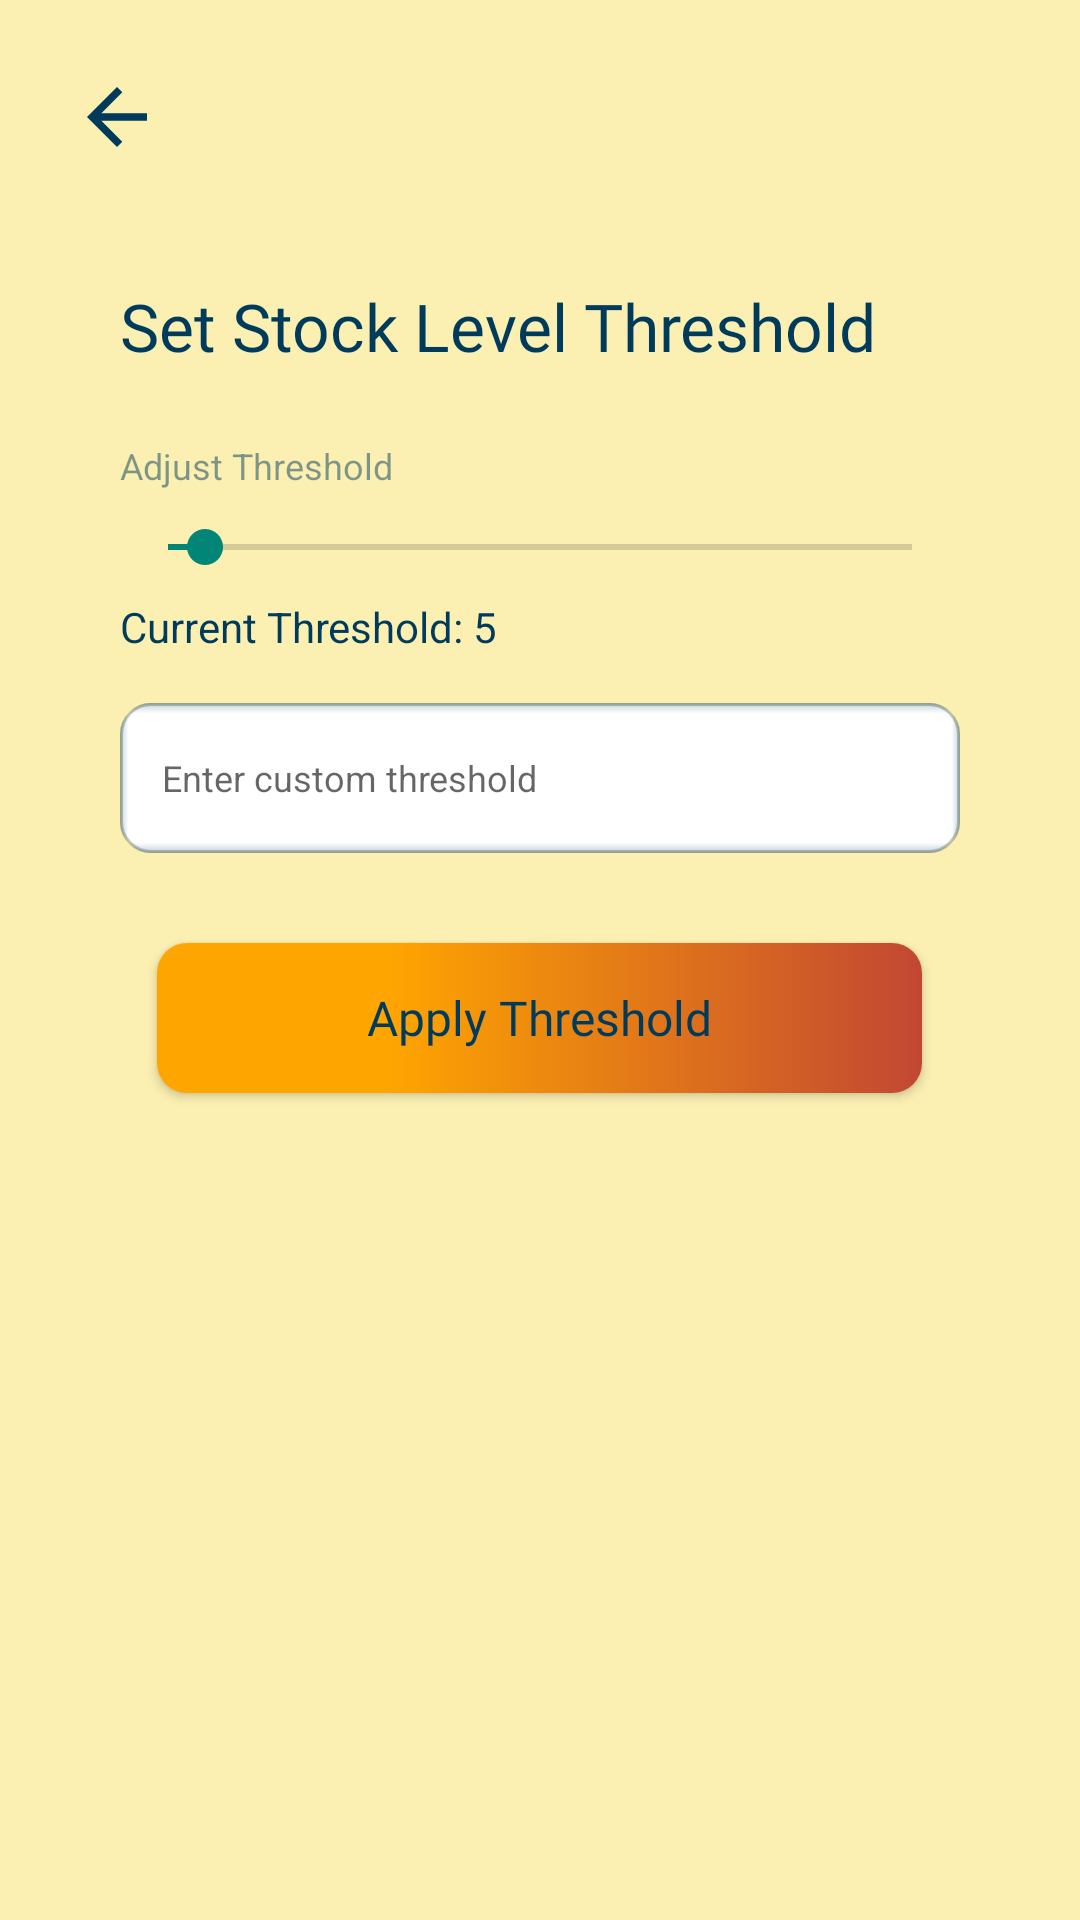

Locate icon controls on the screen. Image size 1080 × 1920, boxes as box=[x1, y1, x2, y2].
arrow back: box=[87, 87, 147, 147]
